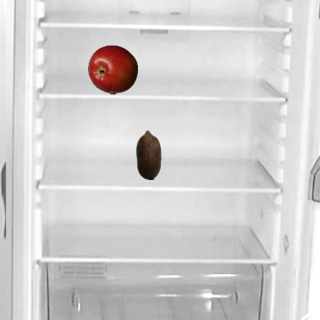Apple Braeburn: (87, 44, 137, 94)
Nut Pecan: (123, 129, 173, 179)
